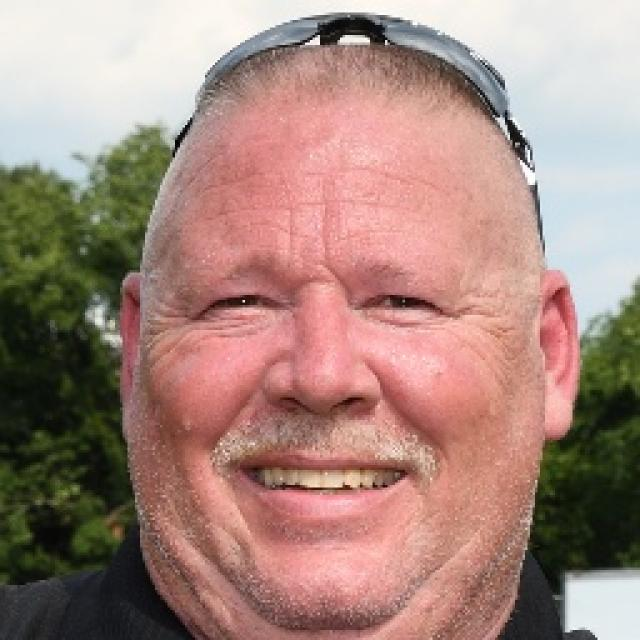earlobe: (541, 377, 574, 442)
eye: (362, 292, 446, 320), (205, 292, 283, 320)
nose: (264, 388, 386, 458)
wholeear: (538, 267, 580, 442)
